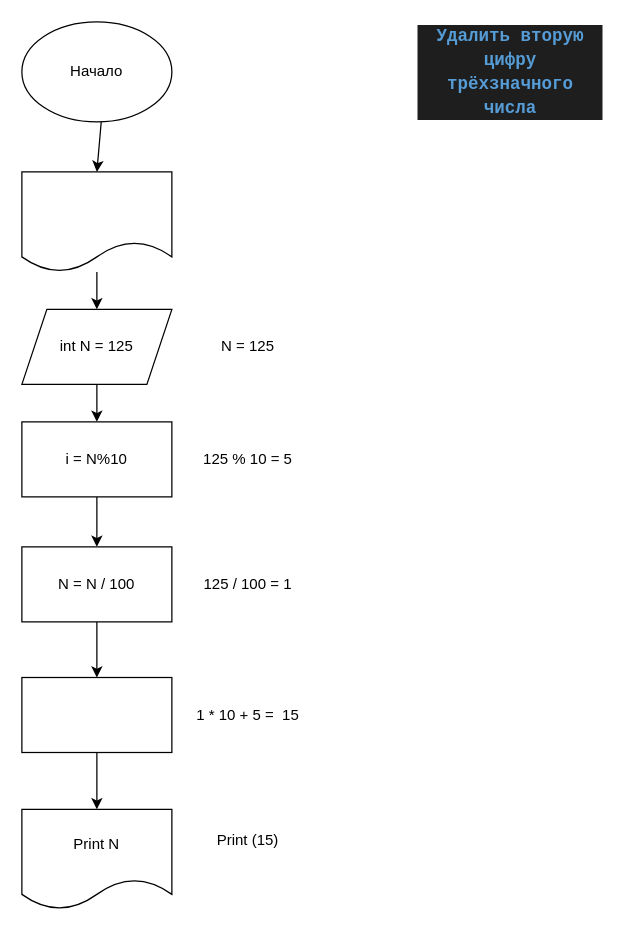
The diagram is 626 pixels wide and 931 high, and some of its shapes have lost their labels. The shapes that lost their labels are listed below. From the top down, each one's box as (x1, y1, x2, y2) in pixels, then its label:
(21, 171, 172, 272): Введите число
(21, 676, 172, 752): N = N * 10 + i
